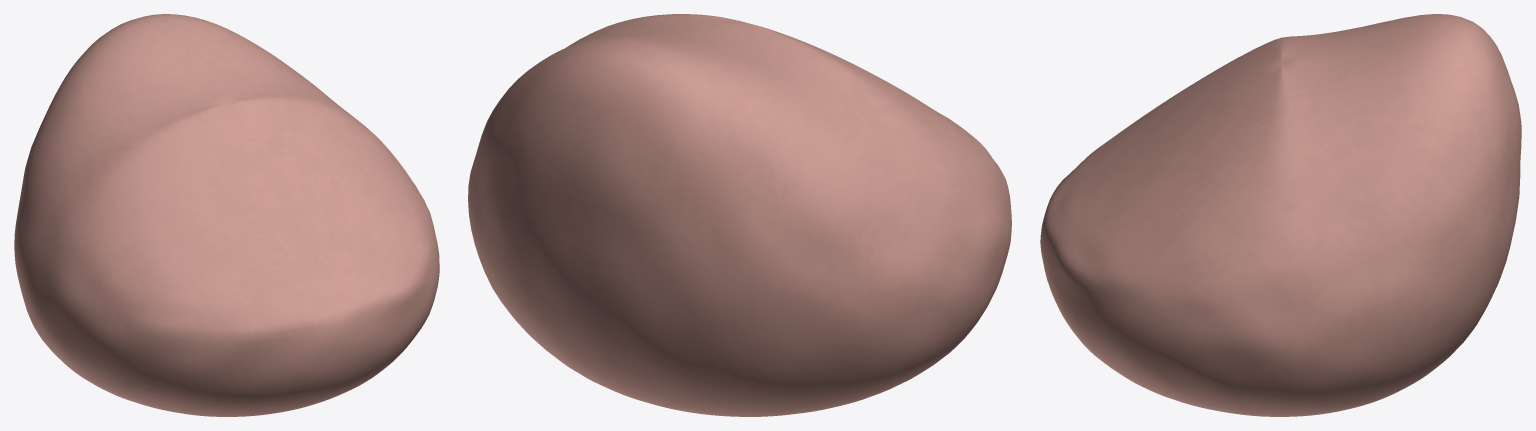
The model's file is chair-blush.glb.
3 views of the same model, side by side, from view 1: azimuth 30°, elevation 25°; view 2: azimuth 150°, elevation 25°; view 3: azimuth 270°, elevation 25° (orthographic). The views are drawn at different scales.
Parts seen in each view (by area): view 1: fabric_primary; view 2: fabric_primary; view 3: fabric_primary.
Part boxes in pixels (x1,y1,x2,y2): fabric_primary: (14,14,439,416); fabric_primary: (468,14,1011,416); fabric_primary: (1040,14,1521,416).
Bounding box in the file's own units: 0.9616 × 0.7743 × 0.9603.
1 material, 1 textured.
